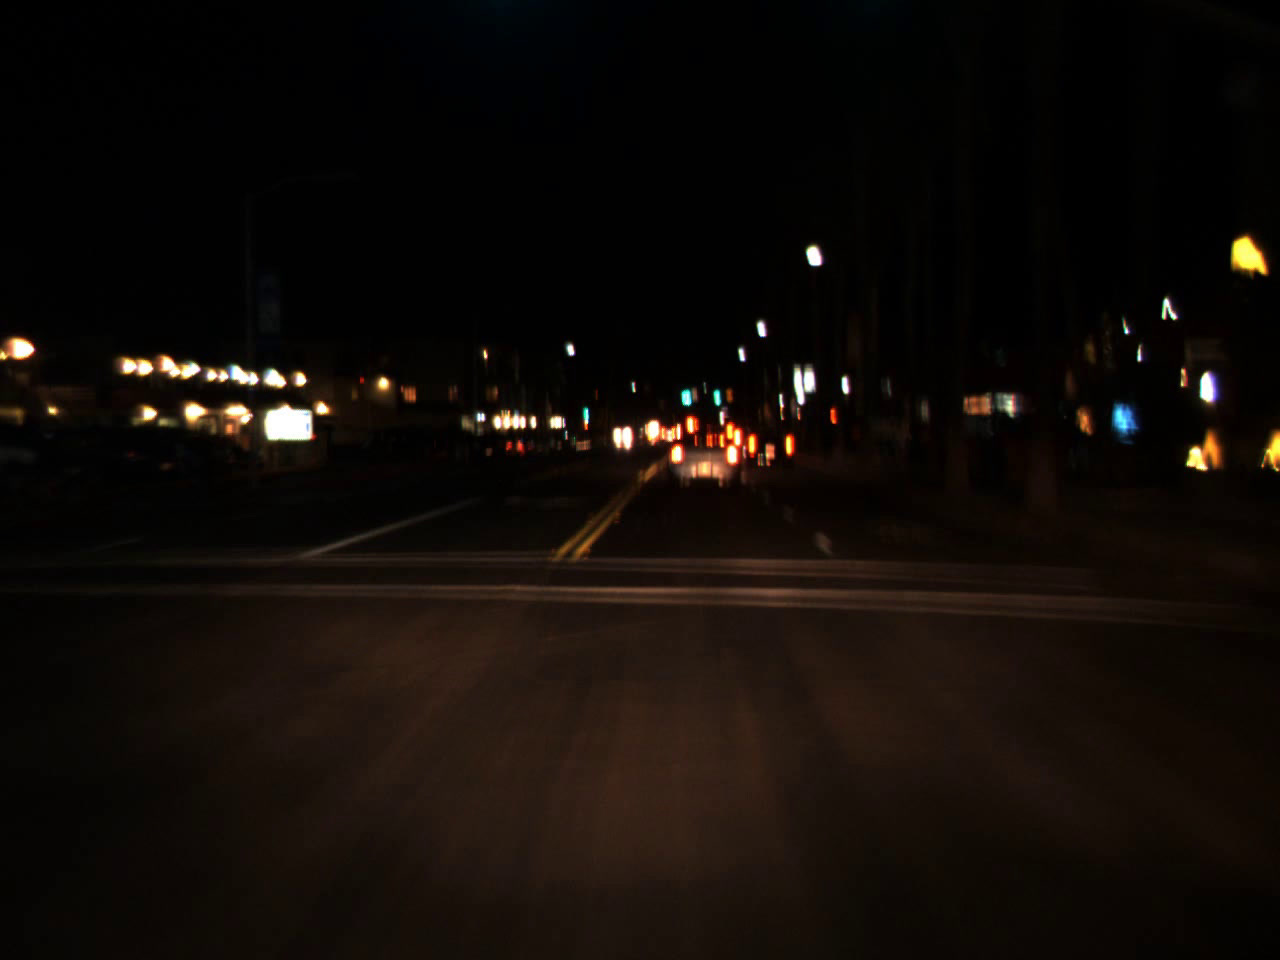go: (678, 367, 692, 412), (711, 377, 720, 404), (582, 395, 589, 422)
